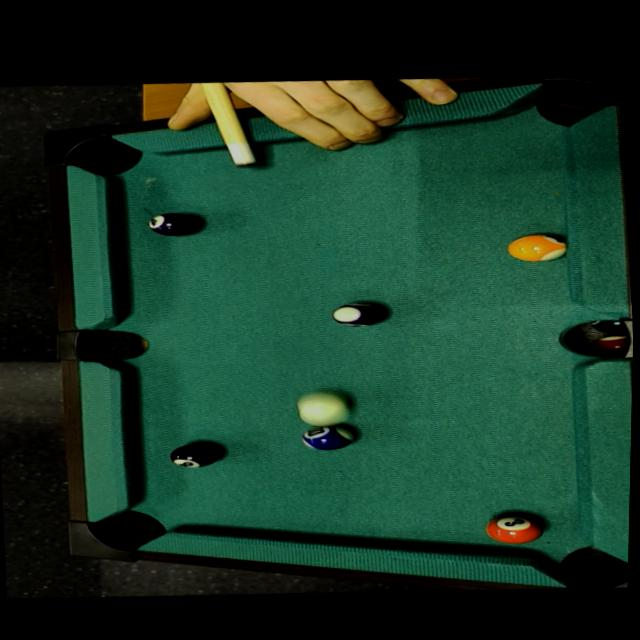cue ball: (290, 387, 350, 434)
other: (502, 229, 565, 266), (327, 296, 390, 333), (484, 511, 546, 548), (142, 208, 201, 241), (298, 421, 356, 454), (165, 439, 220, 472)
